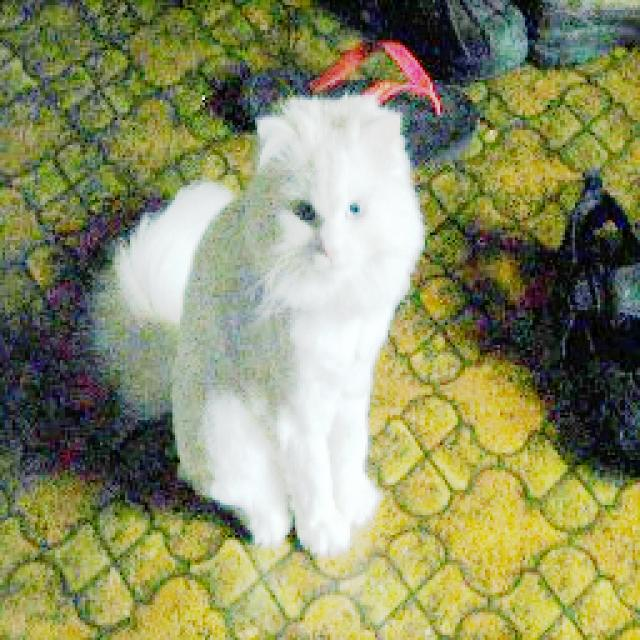cat: (82, 87, 384, 554)
